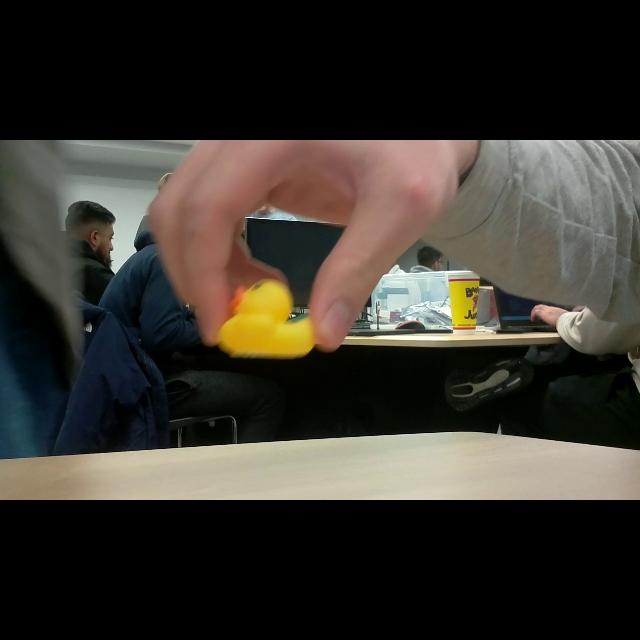duck_regular: (220, 279, 320, 357)
